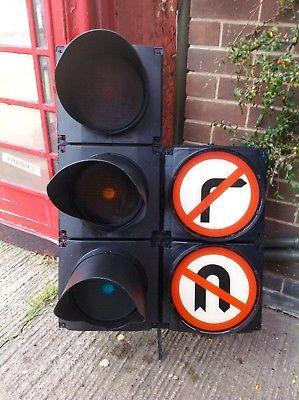no_right_turn: (171, 150, 261, 235)
no_u_turn: (169, 245, 259, 331)
